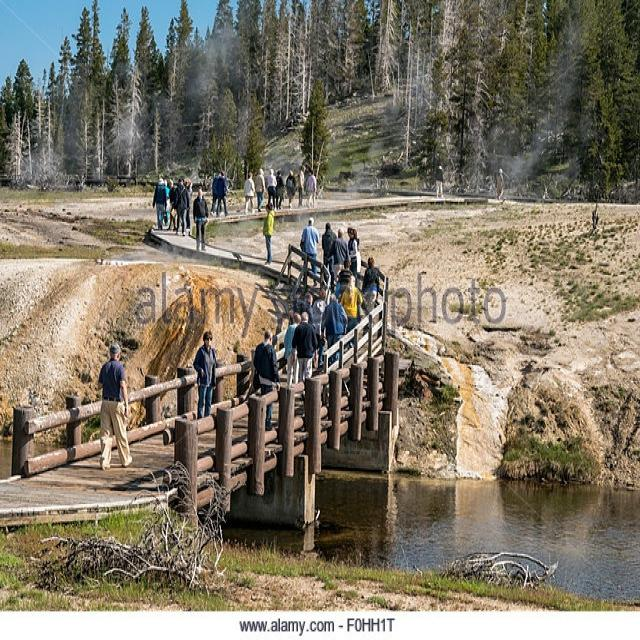body: (96, 341, 134, 471), (252, 329, 281, 431), (318, 293, 349, 368), (192, 329, 217, 421), (325, 226, 350, 302), (291, 310, 317, 382), (339, 275, 363, 348), (298, 216, 320, 288), (282, 314, 300, 392), (321, 220, 339, 290), (170, 176, 190, 238), (191, 185, 209, 253), (311, 285, 332, 342), (360, 256, 380, 310), (346, 226, 361, 289), (261, 202, 275, 268), (151, 176, 167, 232), (214, 169, 229, 219), (159, 174, 172, 230), (180, 176, 192, 235), (209, 175, 225, 219), (337, 259, 354, 299), (296, 293, 315, 328), (266, 167, 279, 212), (243, 170, 256, 215), (253, 166, 265, 213), (284, 169, 297, 209), (305, 169, 317, 210), (274, 170, 285, 212), (296, 165, 306, 208), (433, 163, 444, 199), (494, 166, 504, 202)
